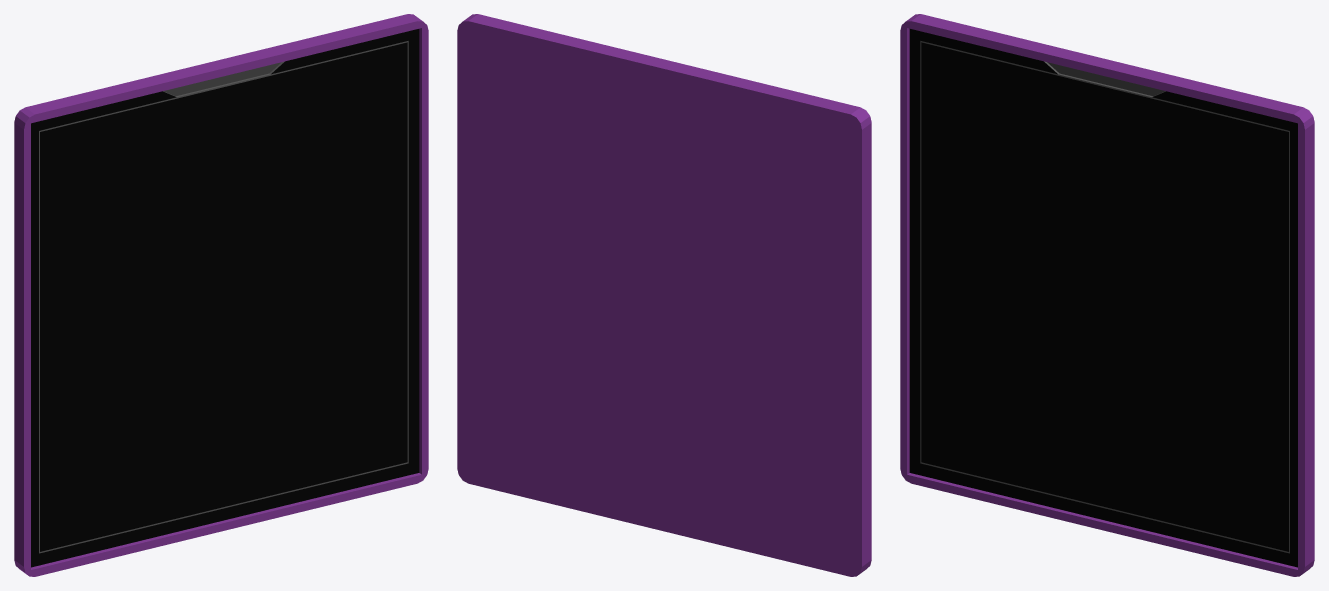
Rendered from IPAD.fbx.
The picture shows the model from 3 angles, left to right: view 1: azimuth 30°, elevation 25°; view 2: azimuth 150°, elevation 25°; view 3: azimuth 330°, elevation 25°; orthographic projection.
Parts seen in each view (by area): view 1: Ipad; view 2: Ipad; view 3: Ipad.
Part boxes in pixels (x1,y1,x2,y2): Ipad: (14, 14, 428, 576); Ipad: (457, 14, 871, 576); Ipad: (900, 14, 1314, 576).
Bounding box in the file's own units: 72.54 × 79.19 × 3.03.
